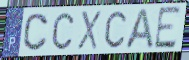A: (123, 7, 156, 51)
C: (22, 12, 50, 52), (51, 11, 76, 52), (104, 10, 128, 50)
E: (153, 5, 183, 52)
X: (76, 10, 103, 51)
